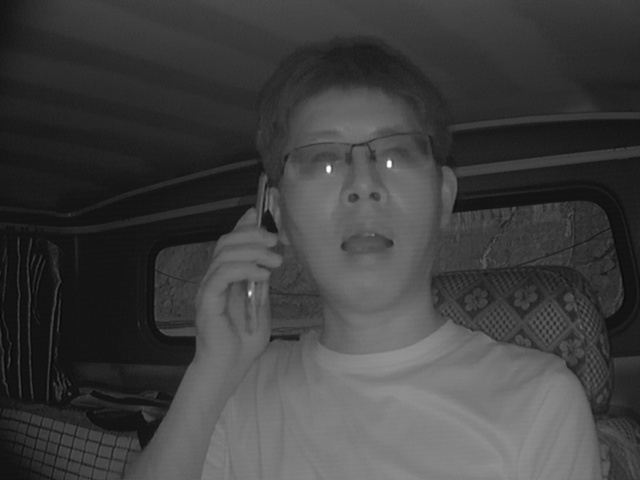hand: (178, 208, 277, 368)
